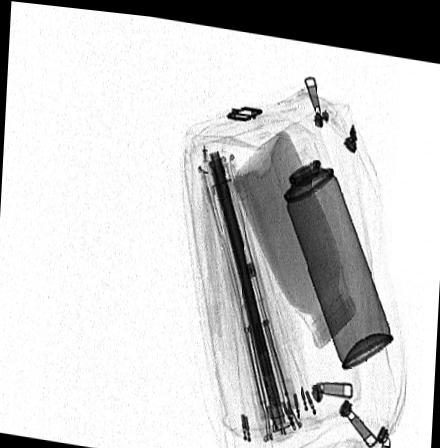Sprayer: (270, 124, 393, 362)
